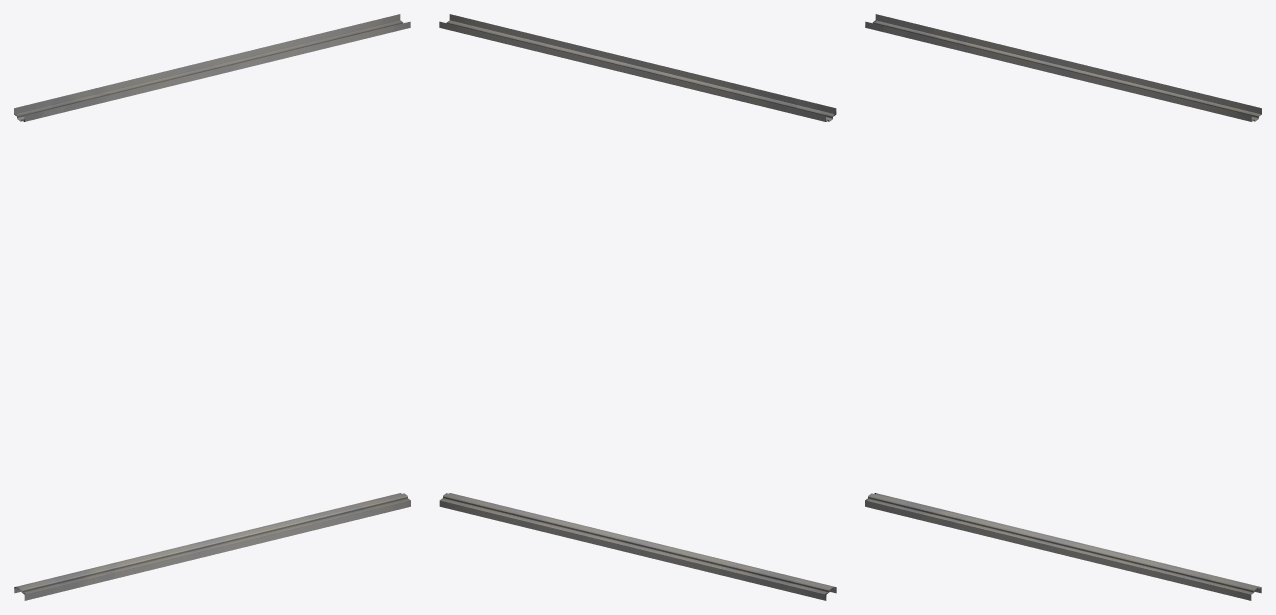
The model's file is props_gameplay_door_grate003_frame.glb.
The picture shows the model from 3 angles, left to right: view 1: azimuth 30°, elevation 25°; view 2: azimuth 150°, elevation 25°; view 3: azimuth 330°, elevation 25°; orthographic projection.
Visible parts, largest first — view 1: models/props_gameplay/door_grate003_frame; view 2: models/props_gameplay/door_grate003_frame; view 3: models/props_gameplay/door_grate003_frame.
Boxes of the visible parts, x1,y1,x2,y2 form: models/props_gameplay/door_grate003_frame: (14, 14, 410, 600); models/props_gameplay/door_grate003_frame: (439, 14, 836, 600); models/props_gameplay/door_grate003_frame: (865, 14, 1261, 600).
Size of the model in its own units: 160 by 192 by 7.55.
Materials: 1 (1 with a texture image).
